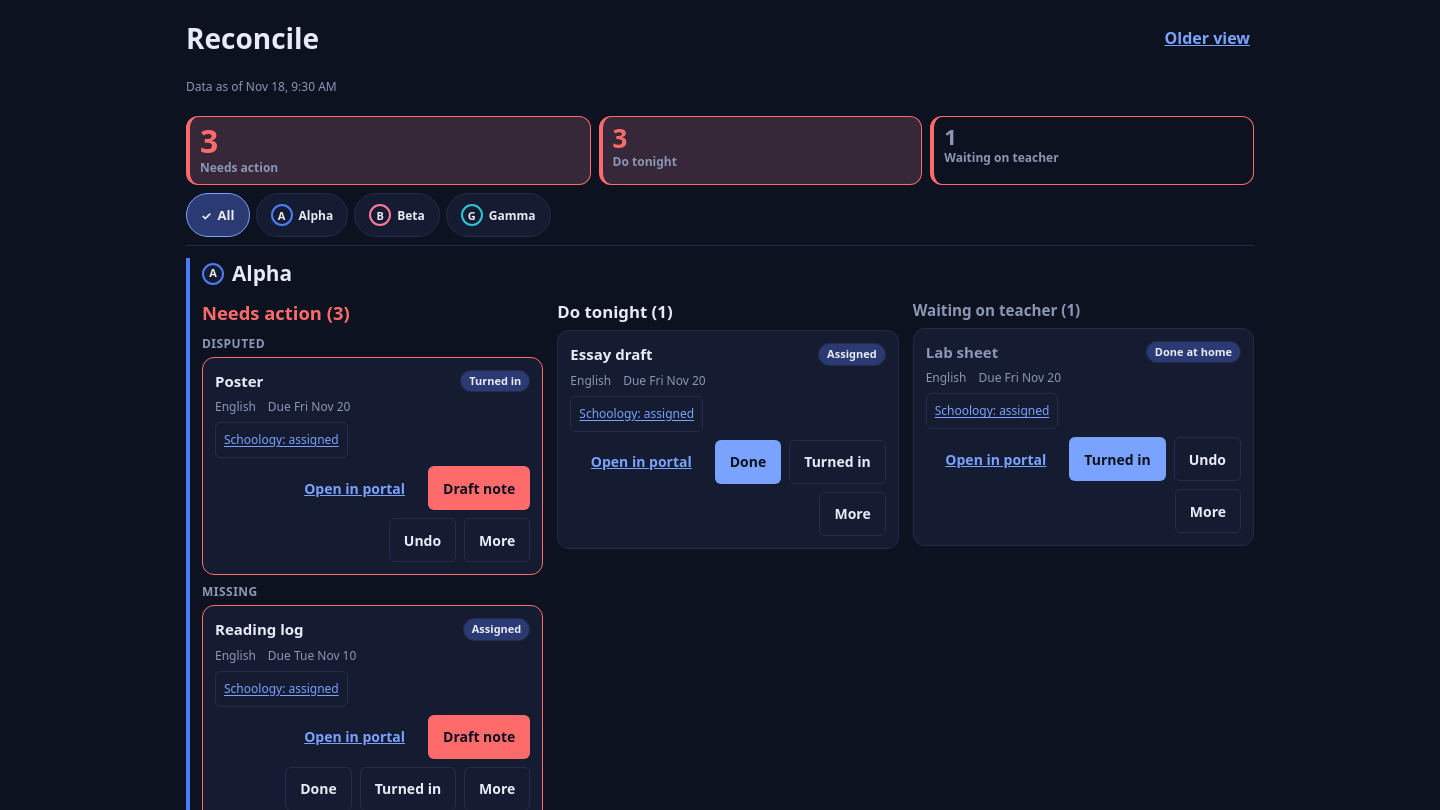
Test: F10: a failed tap puts the row back in its original bucket
expect the heading "Alpha" is shown: met, box [232,258,292,289]
Click the button with aria-label "Mark Essay draft (English, Alpha) turned in" at (838, 462), box [789,440,886,484]
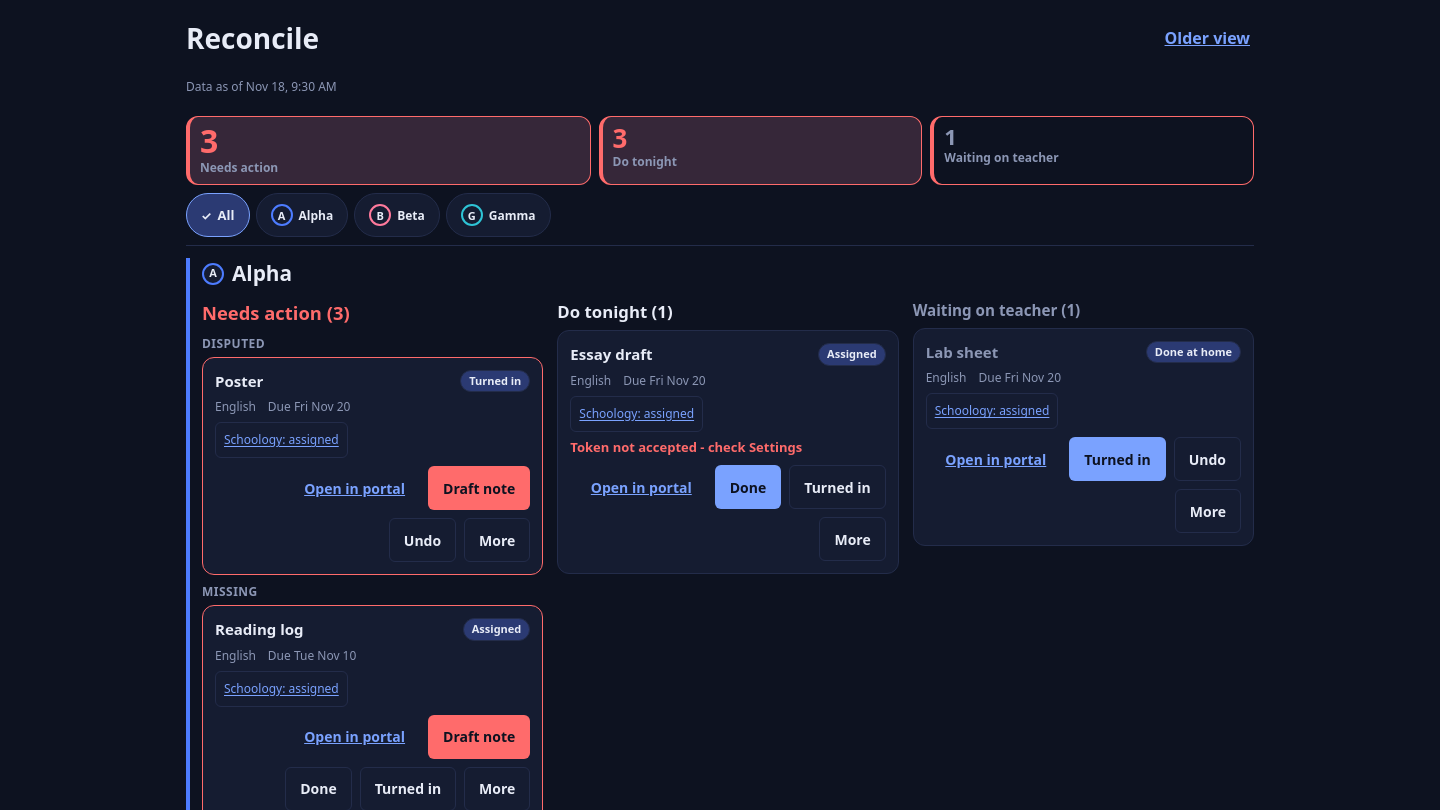
expect the text "Token not accepted - check Settings" is shown: met, box [570,438,802,456]
